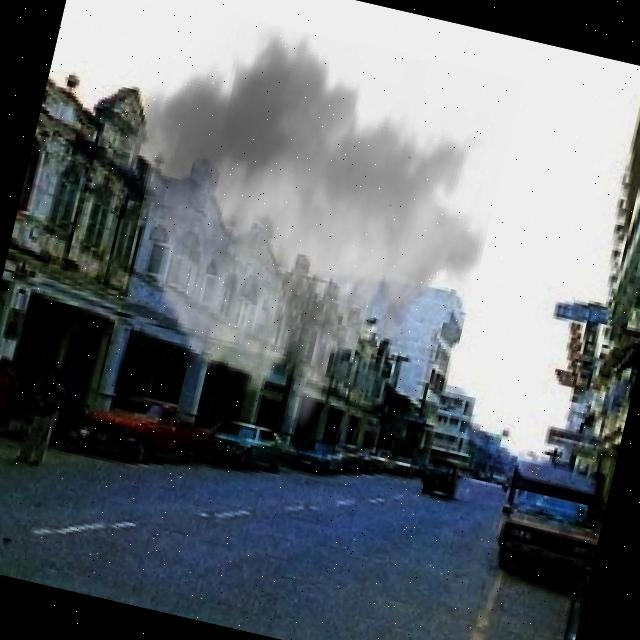smoke: (66, 0, 522, 466)
